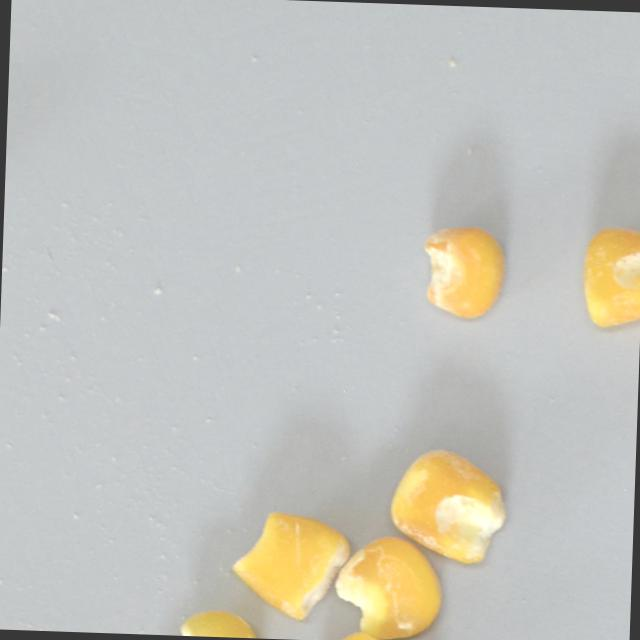no_canjicado: (226, 503, 353, 618)
pelicula: (387, 445, 507, 562), (333, 529, 444, 639), (420, 222, 506, 317), (581, 224, 640, 327), (152, 607, 263, 638), (310, 628, 436, 640)
